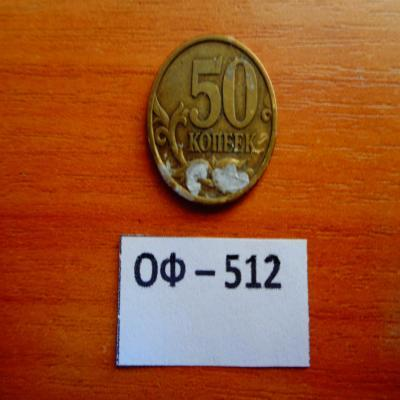numismatics: (144, 36, 278, 209)
